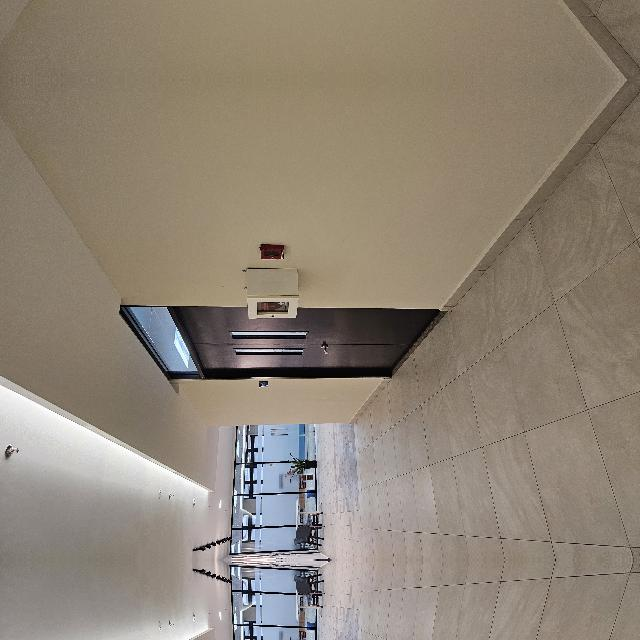door: (170, 242, 254, 532), (170, 588, 253, 640)
obstacle: (240, 311, 332, 384), (7, 372, 69, 402)
